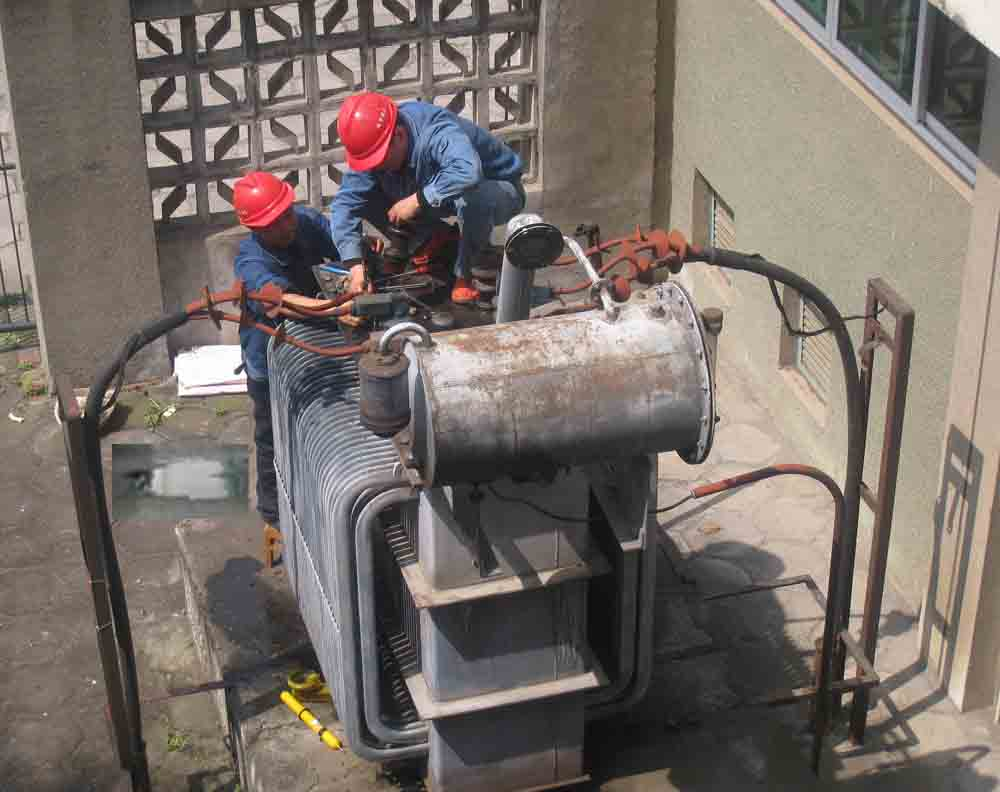oil: (114, 449, 247, 512)
